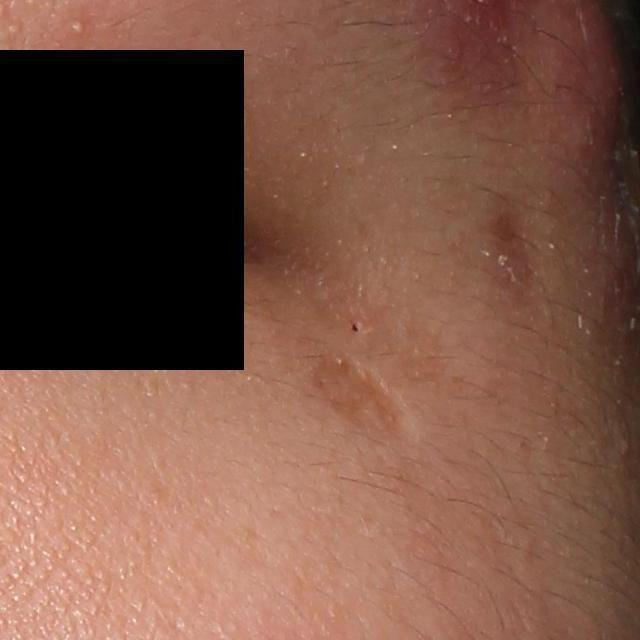atrophic_scar: (305, 343, 412, 440), (478, 189, 548, 304)
other: (310, 356, 418, 439)
